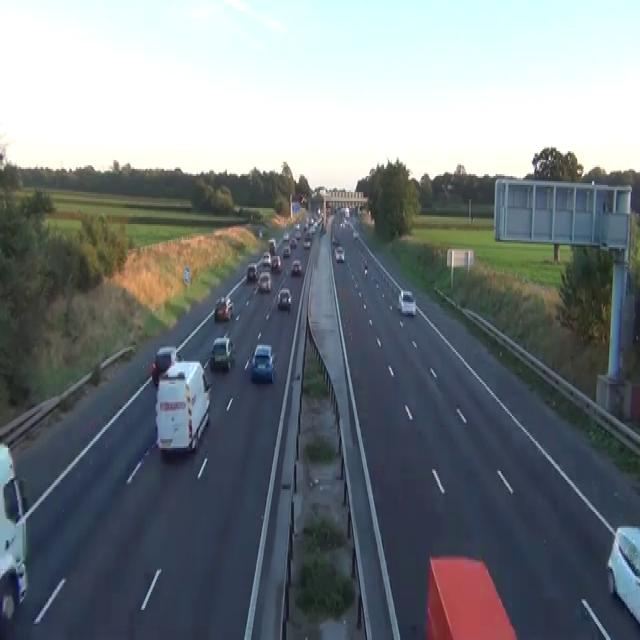Car: (424, 553, 517, 638), (606, 524, 639, 624), (0, 441, 27, 524), (0, 548, 27, 620), (151, 345, 182, 386), (250, 343, 276, 382), (209, 334, 235, 372), (214, 295, 233, 322), (397, 290, 416, 316), (277, 288, 292, 309), (257, 270, 271, 292), (246, 263, 258, 281), (270, 254, 282, 272), (291, 258, 302, 276), (335, 246, 345, 262), (261, 250, 271, 266), (225, 295, 233, 313), (267, 238, 276, 252), (331, 236, 338, 252), (282, 245, 290, 258), (340, 218, 350, 228), (290, 236, 297, 249), (363, 258, 368, 276), (300, 194, 307, 206), (303, 238, 310, 249), (352, 229, 358, 240), (320, 222, 326, 233), (331, 237, 338, 246), (282, 231, 289, 240), (446, 182, 453, 190), (294, 230, 300, 238), (258, 228, 262, 236), (363, 258, 367, 266)
Truck: (154, 359, 211, 453), (0, 441, 28, 622)
